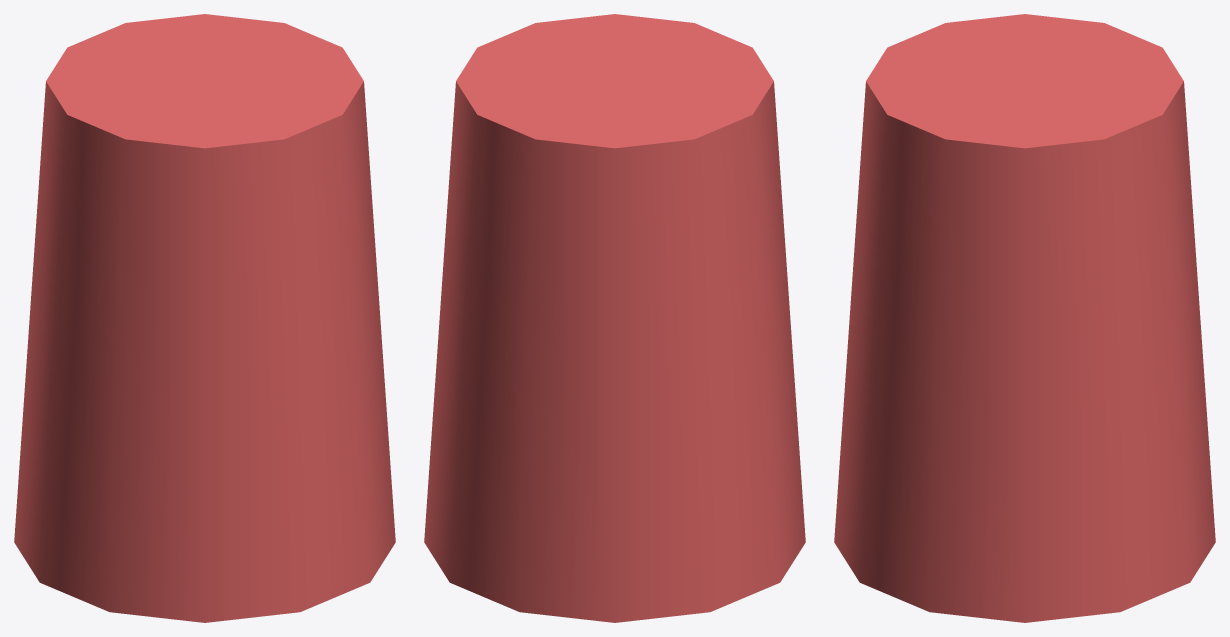
The model's file is extinguisher_pqs.glb.
3 views of the same model, side by side, from view 1: azimuth 30°, elevation 25°; view 2: azimuth 150°, elevation 25°; view 3: azimuth 270°, elevation 25° (orthographic).
Parts seen in each view (by area): view 1: extinguisher_pqs-node; view 2: extinguisher_pqs-node; view 3: extinguisher_pqs-node.
Part boxes in pixels (x1,y1,x2,y2): extinguisher_pqs-node: [14, 14, 395, 622]; extinguisher_pqs-node: [424, 14, 805, 622]; extinguisher_pqs-node: [834, 14, 1215, 622].
Bounding box in the file's own units: 0.6 × 0.8 × 0.6.
